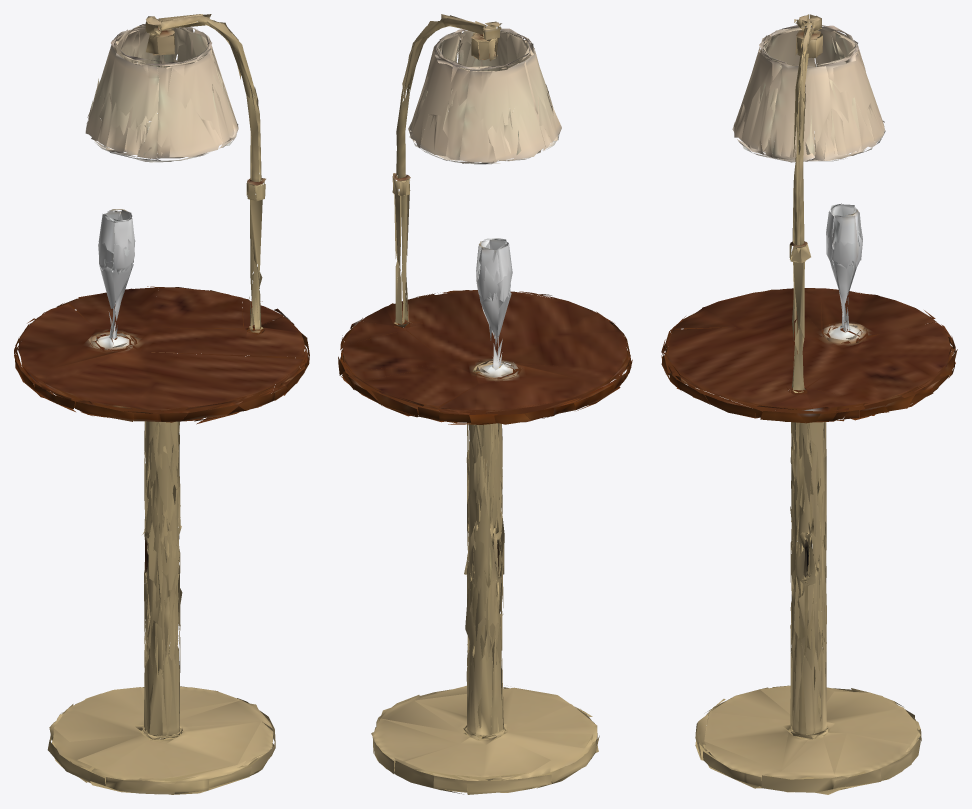
The model's file is jetlamp.glb.
3 views of the same model, side by side, from view 1: azimuth 30°, elevation 25°; view 2: azimuth 150°, elevation 25°; view 3: azimuth 270°, elevation 25° (orthographic).
Visible parts, largest first — view 1: LO.001; view 2: LO.001; view 3: LO.001.
Part boxes in pixels (left/top/right/bottom): LO.001: left=14, top=14, right=309, bottom=794; LO.001: left=338, top=14, right=632, bottom=794; LO.001: left=661, top=14, right=957, bottom=794.
Size of the model in its own units: 0.704 by 1.91 by 0.7054.
Materials: 1 (1 with a texture image).
